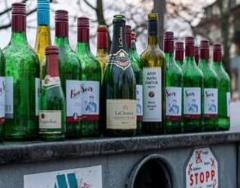glass: (98, 14, 138, 138)
